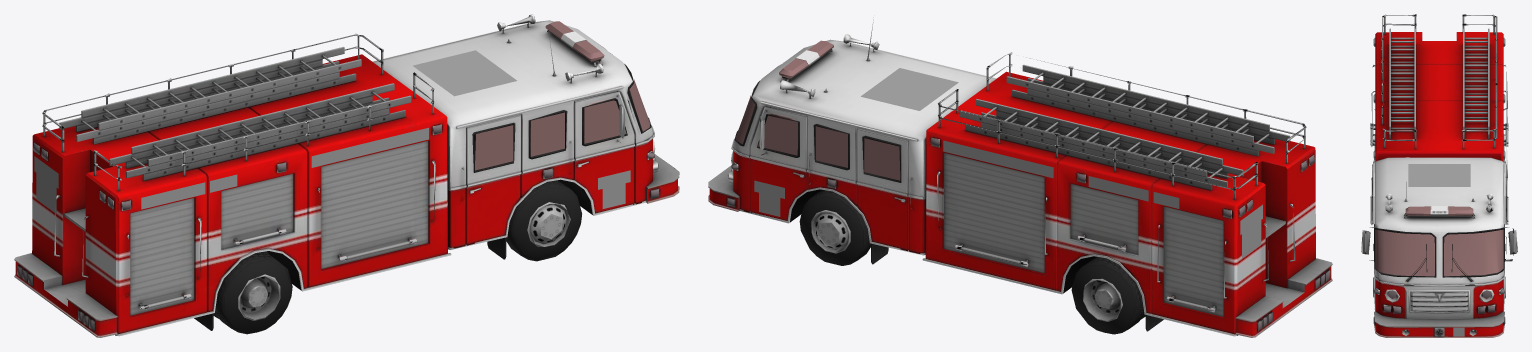
File: civ-firetruck.lod0.glb
3 renders of one model, left to right at view 1: azimuth 30°, elevation 25°; view 2: azimuth 150°, elevation 25°; view 3: azimuth 270°, elevation 25°, orthographic. The views are drawn at different scales.
Parts seen in each view (by area): view 1: fire_truck_firetruck_0, fire_truck_firetruck_glass_0; view 2: fire_truck_firetruck_0, fire_truck_firetruck_glass_0; view 3: fire_truck_firetruck_0, fire_truck_firetruck_glass_0.
Boxes of the visible parts, x1,y1,x2,y2 form: fire_truck_firetruck_0: (14, 14, 679, 337); fire_truck_firetruck_glass_0: (16, 21, 659, 329); fire_truck_firetruck_0: (708, 17, 1332, 337); fire_truck_firetruck_glass_0: (727, 40, 1330, 330); fire_truck_firetruck_0: (1361, 14, 1517, 337); fire_truck_firetruck_glass_0: (1373, 39, 1505, 336).
Size of the model in its own units: 7.29 by 2.55 by 2.26.
2 materials, 1 textured.
